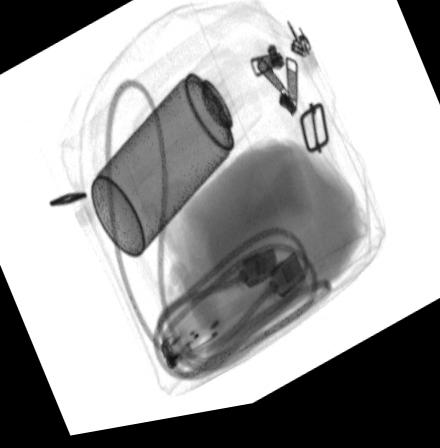Lighter: (156, 304, 220, 379)
Sprayer: (92, 51, 265, 258)
